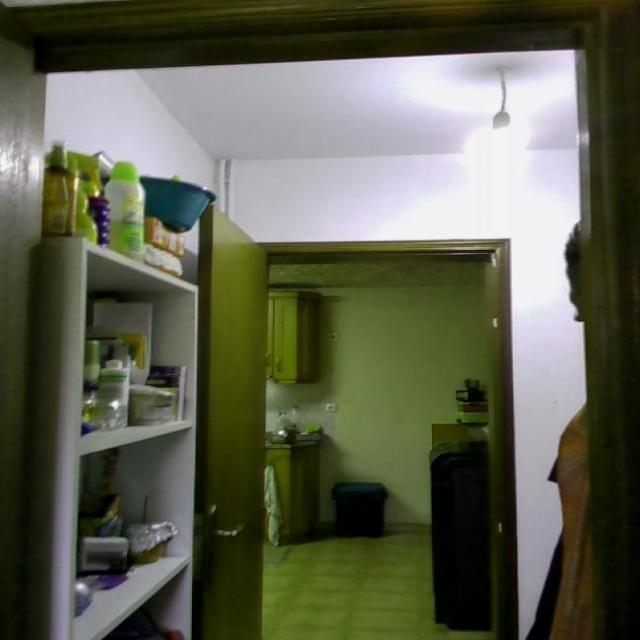door: (184, 199, 278, 640)
